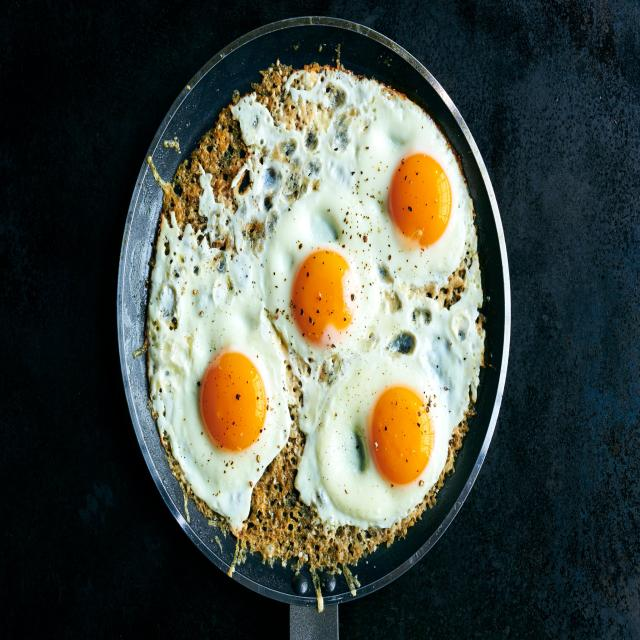Egg: (148, 172, 291, 534), (351, 90, 476, 300), (315, 354, 449, 527)
